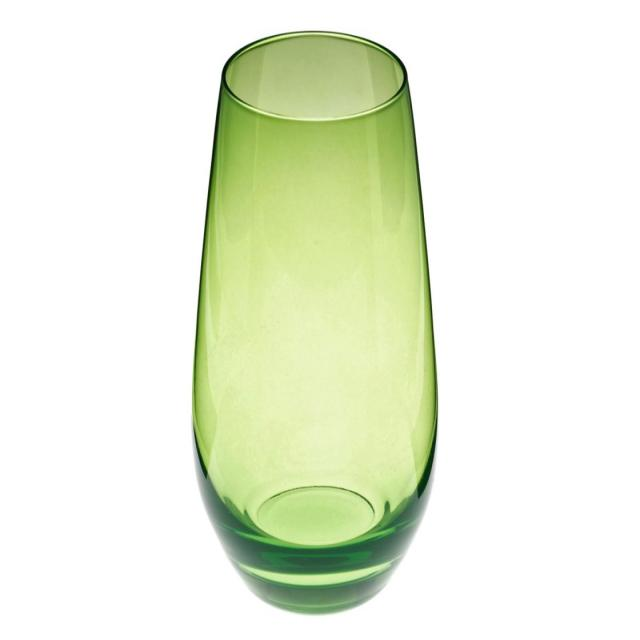Dry Waste: (178, 19, 444, 628)
